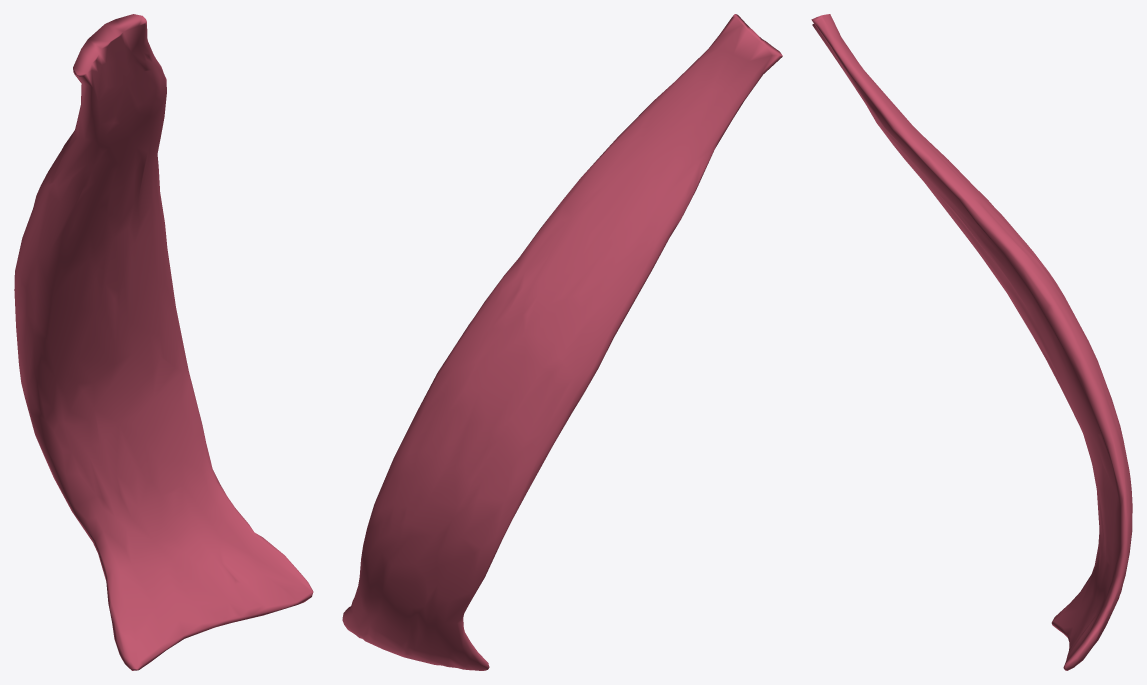
The picture shows the model from 3 angles, left to right: view 1: azimuth 30°, elevation 25°; view 2: azimuth 150°, elevation 25°; view 3: azimuth 270°, elevation 25°; orthographic projection. The views are drawn at different scales.
Visible parts, largest first — view 1: 左侧下直肌; view 2: 左侧下直肌; view 3: 左侧下直肌.
Boxes of the visible parts, box(x1,y1,x2,y2) form: 左侧下直肌: box(14, 14, 313, 670); 左侧下直肌: box(342, 14, 782, 670); 左侧下直肌: box(811, 14, 1132, 670).
Bounding box in the file's own units: 0.0327 × 0.0611 × 0.0321.
